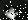person: (5, 7, 22, 20)
